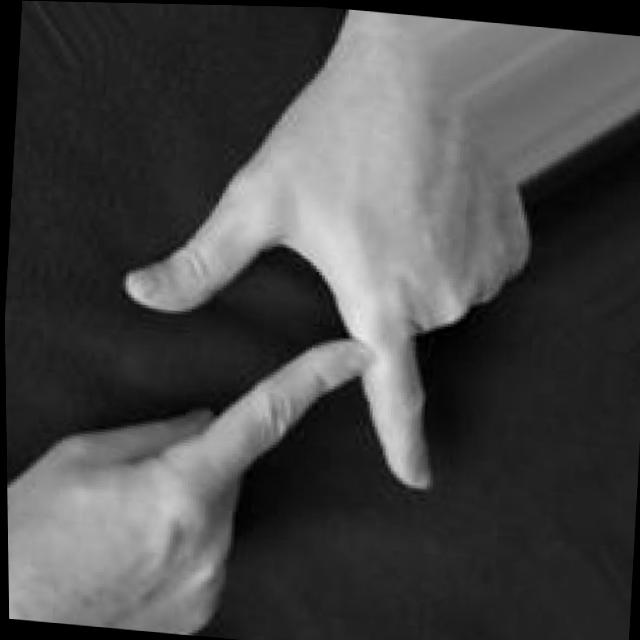F: (2, 124, 541, 640)
